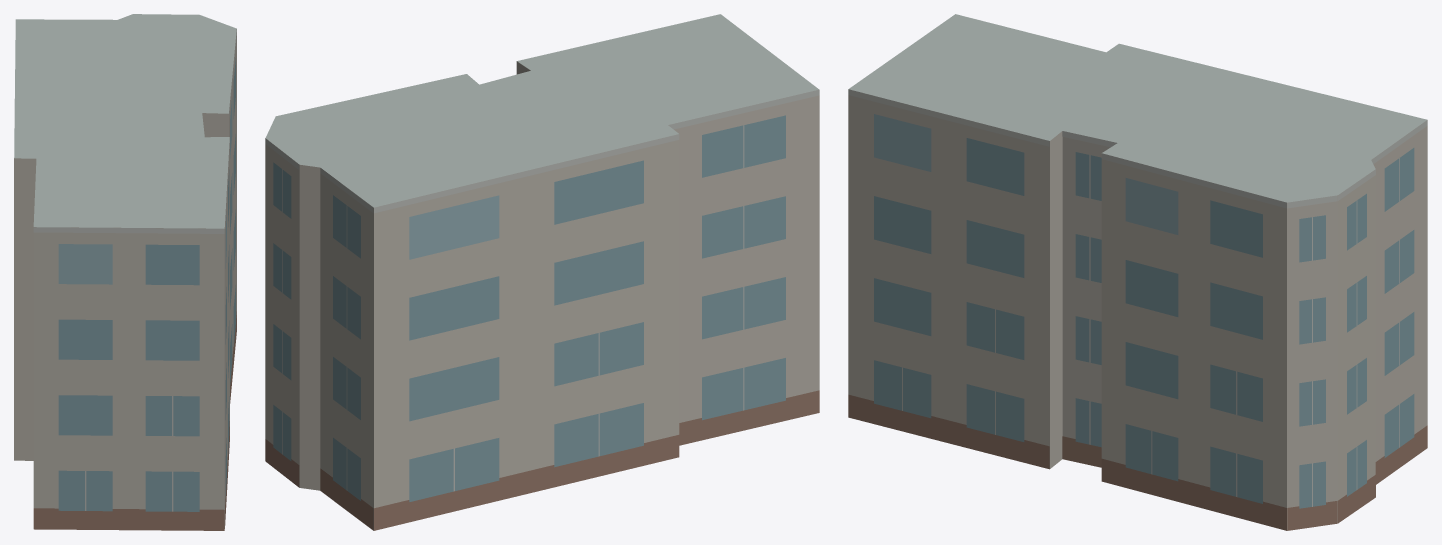
Rendered from survey-upis-32618385.glb.
3 renders of one model, left to right at view 1: azimuth 30°, elevation 25°; view 2: azimuth 150°, elevation 25°; view 3: azimuth 270°, elevation 25°, orthographic. The views are drawn at different scales.
Parts seen in each view (by area): view 1: survey-upis-32618385.tmp; view 2: survey-upis-32618385.tmp; view 3: survey-upis-32618385.tmp.
Part boxes in pixels (x1,y1,x2,y2): survey-upis-32618385.tmp: (14,14,236,530); survey-upis-32618385.tmp: (265,14,819,530); survey-upis-32618385.tmp: (848,14,1427,530).
Bounding box in the file's own units: 16.83 × 13.65 × 21.84.
